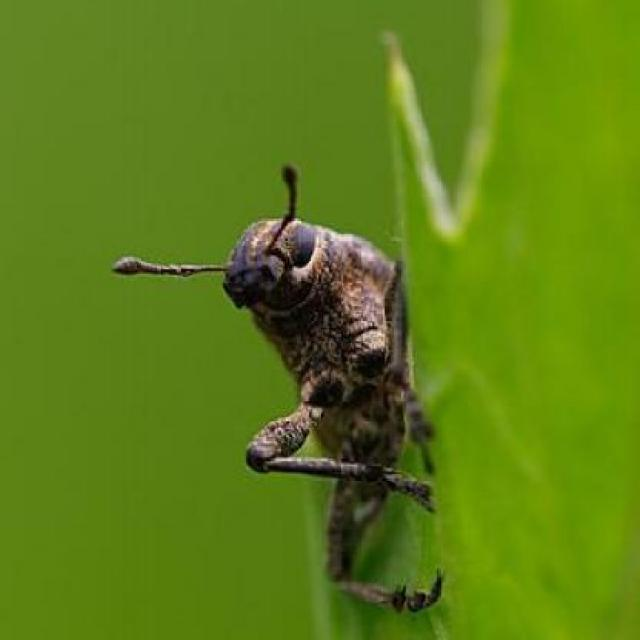rice-bug: (223, 214, 412, 601)
